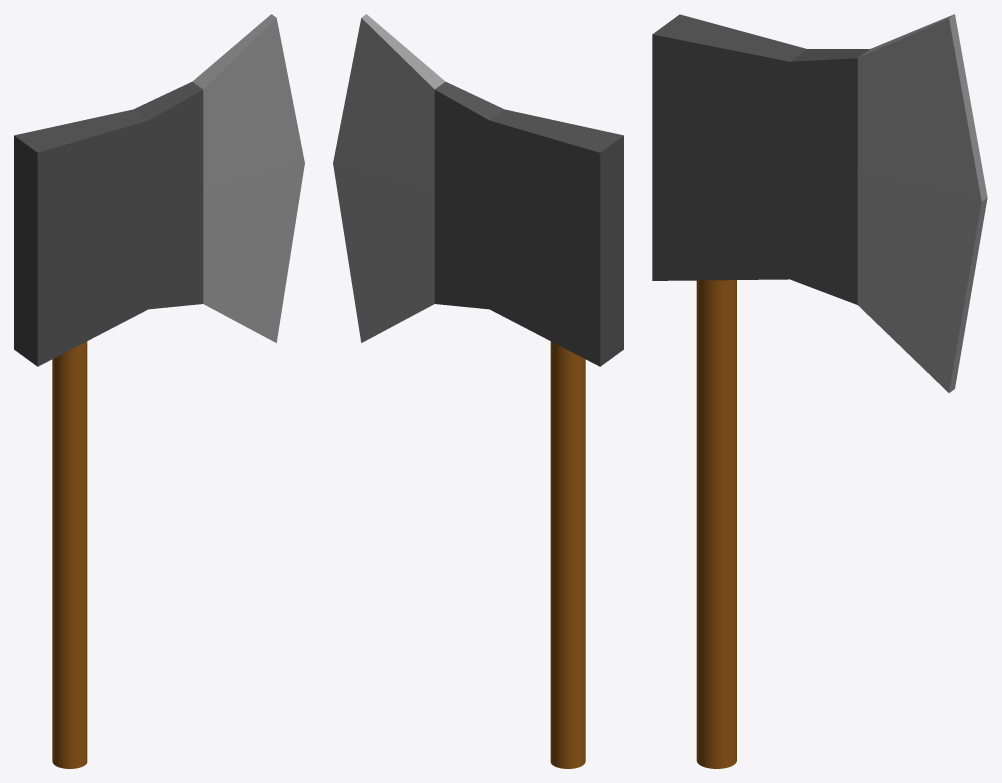
File: axe.fbx
3 views of the same model, side by side, from view 1: azimuth 30°, elevation 25°; view 2: azimuth 150°, elevation 25°; view 3: azimuth 330°, elevation 25° (orthographic). The views are drawn at different scales.
Parts seen in each view (by area): view 1: Cube; view 2: Cube; view 3: Cube.
Boxes of the visible parts, x1,y1,x2,y2 form: Cube: [14, 14, 304, 768]; Cube: [333, 14, 623, 768]; Cube: [652, 14, 987, 768].
Size of the model in its own units: 129 by 309 by 19.15.
